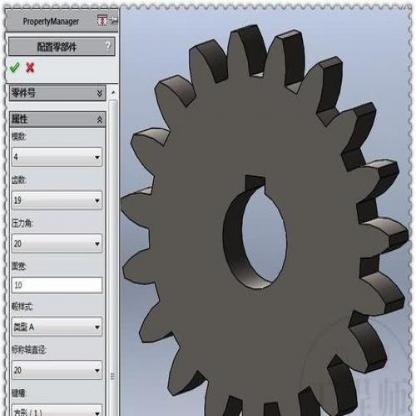FOD: (119, 17, 410, 415)
